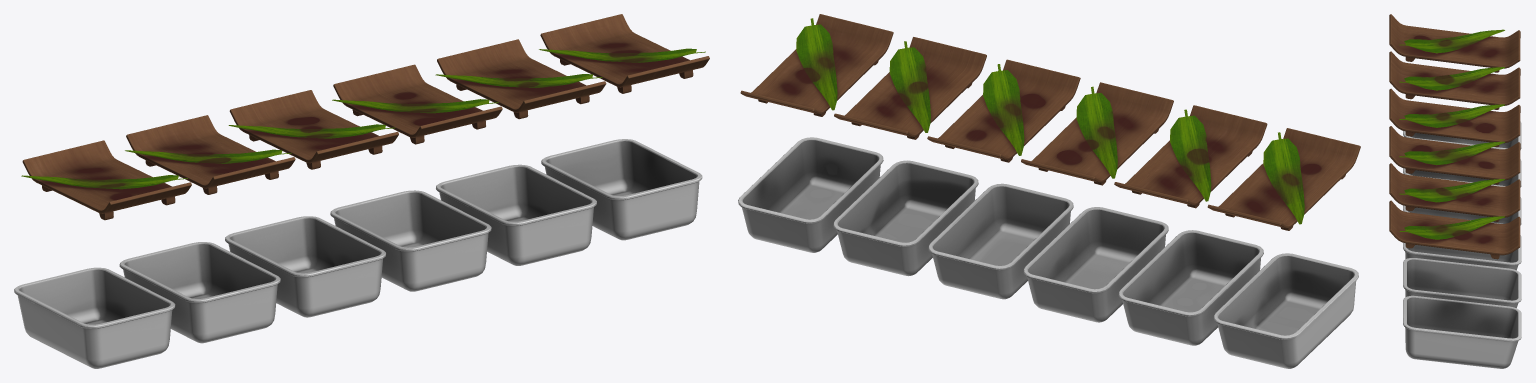
The model's file is JapaneseRestaurant_FoodContainer.fbx.
3 renders of one model, left to right at view 1: azimuth 30°, elevation 25°; view 2: azimuth 150°, elevation 25°; view 3: azimuth 270°, elevation 25°, orthographic. The views are drawn at different scales.
Visible parts, largest first — view 1: JapaneseRestaurant_FoodContainer; view 2: JapaneseRestaurant_FoodContainer; view 3: JapaneseRestaurant_FoodContainer.
Boxes of the visible parts, left/top/right/bottom form: JapaneseRestaurant_FoodContainer: left=14, top=14, right=709, bottom=368; JapaneseRestaurant_FoodContainer: left=738, top=14, right=1360, bottom=368; JapaneseRestaurant_FoodContainer: left=1389, top=14, right=1521, bottom=368.
Size of the model in its own units: 111 by 32.86 by 27.88.
